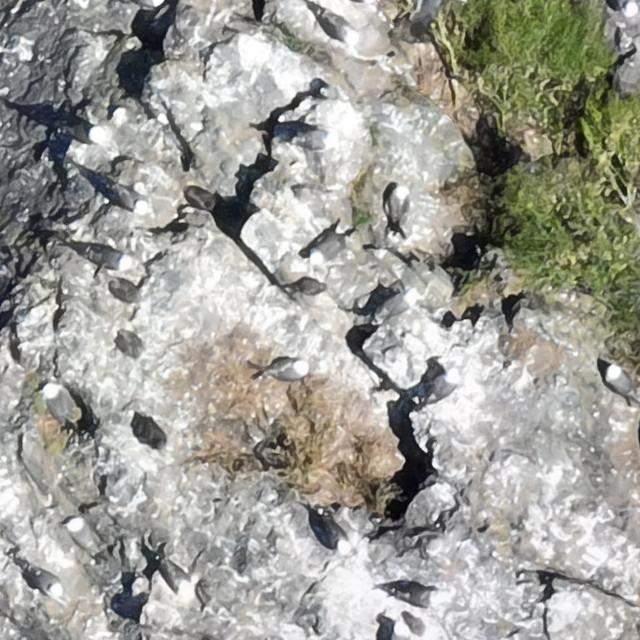umineko: (312, 5, 358, 46), (369, 289, 418, 324), (39, 380, 73, 426), (162, 554, 196, 600), (420, 367, 459, 405), (320, 510, 351, 556), (286, 126, 338, 152), (65, 518, 97, 558), (385, 184, 409, 230), (55, 123, 106, 144), (311, 232, 347, 261), (392, 586, 435, 605), (88, 250, 128, 270), (607, 366, 631, 394), (269, 361, 304, 380), (115, 188, 145, 210), (36, 571, 62, 595), (394, 623, 409, 640)
